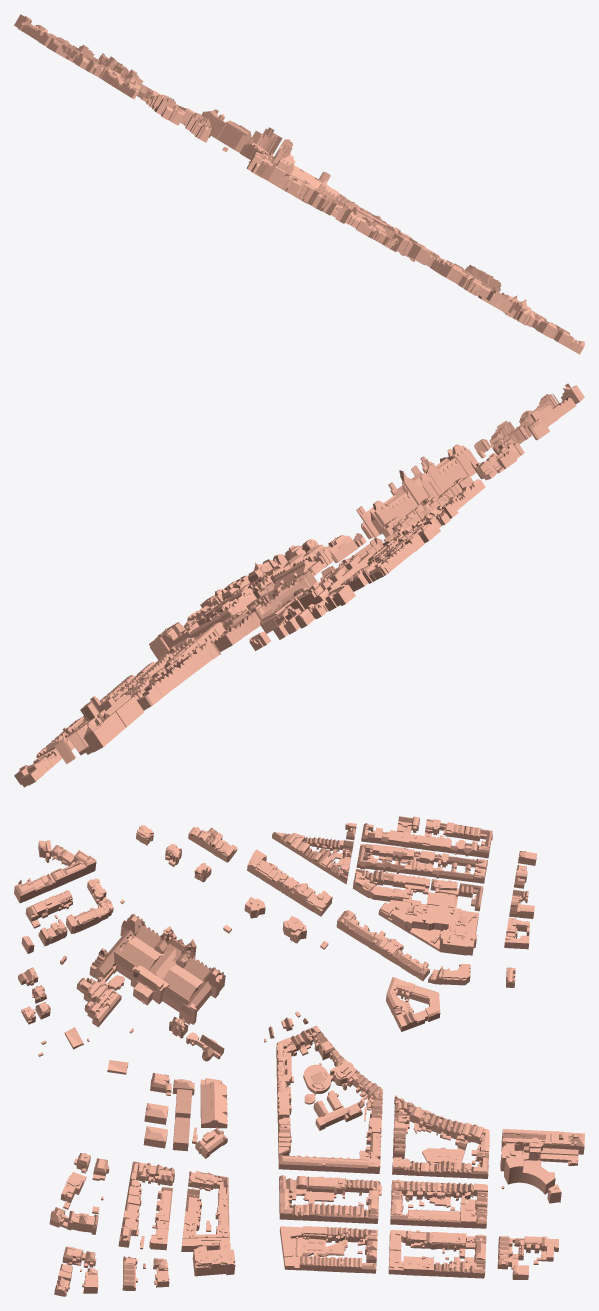
3 renders of one model, top to bottom at view 1: azimuth 30°, elevation 25°; view 2: azimuth 150°, elevation 25°; view 3: azimuth 270°, elevation 25°, orthographic. The views are drawn at different scales.
Bounding box in the file's own units: 1.75e+07 × 1.27e+07 × 2.2e+07.
